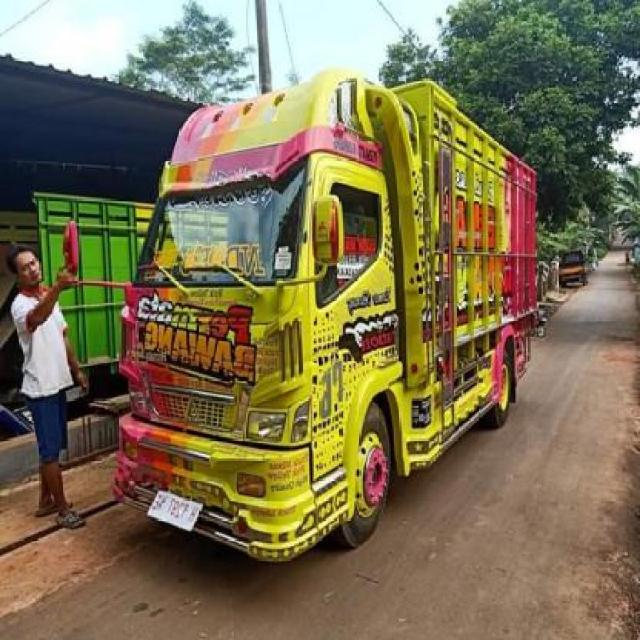truck: (62, 74, 543, 563)
